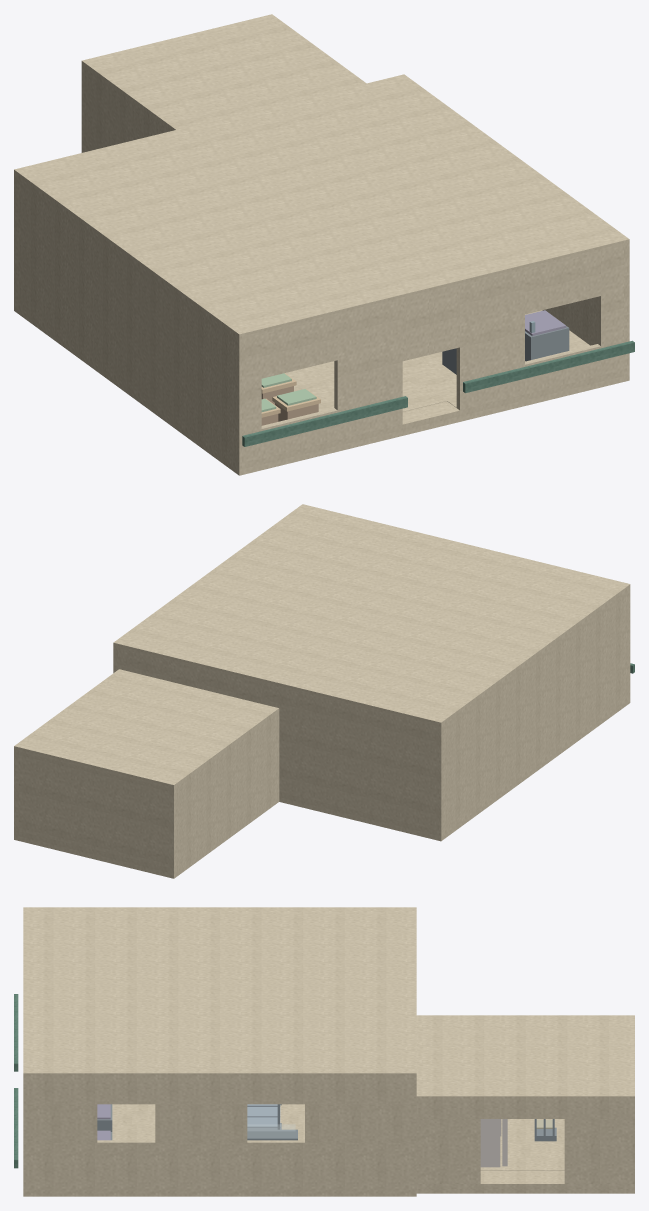
Rendered from EST03.glb.
3 views of the same model, one above another, from view 1: azimuth 30°, elevation 25°; view 2: azimuth 150°, elevation 25°; view 3: azimuth 270°, elevation 25° (orthographic). The views are drawn at different scales.
Visible parts, largest first — view 1: ADAPT_EST03_CORPO_ALVENARIA_30, ADAPT_EST03_CORPO_ALVENARIA_0, ADAPT_EST03_DEPÓSITO_CORPO_15, ADAPT_EST03_CORPO_ALVENARIA_41, ADAPT_EST03_CORPO_ALVENARIA_37, ADAPT_EST03_DEPÓSITO_CORPO_0, ADAPT_EST03_CORPO_ALVENARIA_45, ADAPT_EST03_CORPO_ALVENARIA_48, ADAPT_EST03_CORPO_ALVENARIA_12, ADAPT_EST03_CORPO_ALVENARIA_46, ADAPT_EST03_FAIXA_INFERIOR_1, ADAPT_EST03_FAIXA_INFERIOR_0 (+12 smaller); view 2: ADAPT_EST03_CORPO_ALVENARIA_30, ADAPT_EST03_CORPO_ALVENARIA_0, ADAPT_EST03_CORPO_ALVENARIA_31, ADAPT_EST03_DEPÓSITO_CORPO_15, ADAPT_EST03_DEPÓSITO_CORPO_16, ADAPT_EST03_DEPÓSITO_CORPO_0, ADAPT_EST03_CORPO_ALVENARIA_12, ADAPT_EST03_CORPO_ALVENARIA_5, ADAPT_EST03_CORPO_ALVENARIA_33, ADAPT_EST03_CORPO_ALVENARIA_32, ADAPT_EST03_DEPÓSITO_CORPO_2, ADAPT_EST03_CORPO_ALVENARIA_35 (+1 smaller); view 3: ADAPT_EST03_CORPO_ALVENARIA_30, ADAPT_EST03_CORPO_ALVENARIA_1, ADAPT_EST03_DEPÓSITO_CORPO_15, ADAPT_EST03_CORPO_ALVENARIA_5, ADAPT_EST03_DEPÓSITO_CORPO_2, ADAPT_EST03_DEPÓSITO_CORPO_3, ADAPT_EST03_DEPÓSITO_CORPO_4, ADAPT_EST03_CORPO_ALVENARIA_9, ADAPT_EST03_CORPO_ALVENARIA_10, ADAPT_EST03_DEPÓSITO_CORPO_1, ADAPT_EST03_CORPO_ALVENARIA_11, ADAPT_EST03_CORPO_ALVENARIA_0 (+15 smaller).
Part boxes in pixels (x1,y1,x2,y2): ADAPT_EST03_CORPO_ALVENARIA_30: [20, 75, 623, 337]; ADAPT_EST03_CORPO_ALVENARIA_0: [14, 168, 244, 475]; ADAPT_EST03_DEPÓSITO_CORPO_15: [87, 15, 360, 128]; ADAPT_EST03_CORPO_ALVENARIA_41: [456, 270, 524, 410]; ADAPT_EST03_CORPO_ALVENARIA_37: [334, 300, 402, 439]; ADAPT_EST03_DEPÓSITO_CORPO_0: [81, 59, 181, 152]; ADAPT_EST03_CORPO_ALVENARIA_45: [261, 315, 337, 378]; ADAPT_EST03_CORPO_ALVENARIA_48: [525, 251, 600, 314]; ADAPT_EST03_CORPO_ALVENARIA_12: [245, 364, 402, 474]; ADAPT_EST03_CORPO_ALVENARIA_46: [597, 246, 623, 375]; ADAPT_EST03_FAIXA_INFERIOR_1: [463, 340, 634, 393]; ADAPT_EST03_FAIXA_INFERIOR_0: [242, 396, 407, 446]; ADAPT_EST03_CORPO_ALVENARIA_30: [118, 505, 625, 725]; ADAPT_EST03_CORPO_ALVENARIA_0: [436, 583, 630, 841]; ADAPT_EST03_CORPO_ALVENARIA_31: [262, 683, 436, 830]; ADAPT_EST03_DEPÓSITO_CORPO_15: [18, 670, 273, 788]; ADAPT_EST03_DEPÓSITO_CORPO_16: [18, 752, 169, 867]; ADAPT_EST03_DEPÓSITO_CORPO_0: [169, 707, 279, 878]; ADAPT_EST03_CORPO_ALVENARIA_12: [304, 798, 436, 840]; ADAPT_EST03_CORPO_ALVENARIA_5: [113, 504, 306, 672]; ADAPT_EST03_CORPO_ALVENARIA_33: [118, 648, 170, 681]; ADAPT_EST03_CORPO_ALVENARIA_32: [197, 667, 236, 697]; ADAPT_EST03_DEPÓSITO_CORPO_2: [14, 669, 123, 768]; ADAPT_EST03_CORPO_ALVENARIA_35: [236, 677, 262, 703]; ADAPT_EST03_CORPO_ALVENARIA_30: [23, 909, 416, 1070]; ADAPT_EST03_CORPO_ALVENARIA_1: [23, 1140, 416, 1196]; ADAPT_EST03_DEPÓSITO_CORPO_15: [416, 1017, 634, 1093]; ADAPT_EST03_CORPO_ALVENARIA_5: [23, 1071, 416, 1104]; ADAPT_EST03_DEPÓSITO_CORPO_2: [416, 1094, 634, 1118]; ADAPT_EST03_DEPÓSITO_CORPO_3: [564, 1119, 634, 1183]; ADAPT_EST03_DEPÓSITO_CORPO_4: [416, 1119, 480, 1183]; ADAPT_EST03_CORPO_ALVENARIA_9: [305, 1108, 416, 1138]; ADAPT_EST03_CORPO_ALVENARIA_10: [155, 1108, 247, 1138]; ADAPT_EST03_DEPÓSITO_CORPO_1: [416, 1181, 634, 1193]; ADAPT_EST03_CORPO_ALVENARIA_11: [23, 1108, 97, 1138]; ADAPT_EST03_CORPO_ALVENARIA_0: [23, 907, 416, 909].
Bounding box in the file's own units: 12.6 × 4.36 × 19.9.
Materials: 19 (3 with a texture image).
